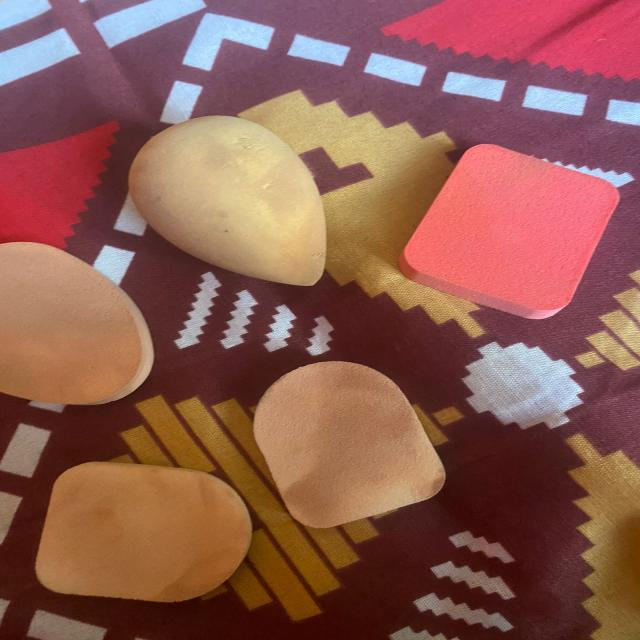beauty blender: (388, 123, 638, 351), (107, 105, 346, 300), (236, 354, 464, 534), (17, 459, 254, 623), (0, 226, 171, 423)
